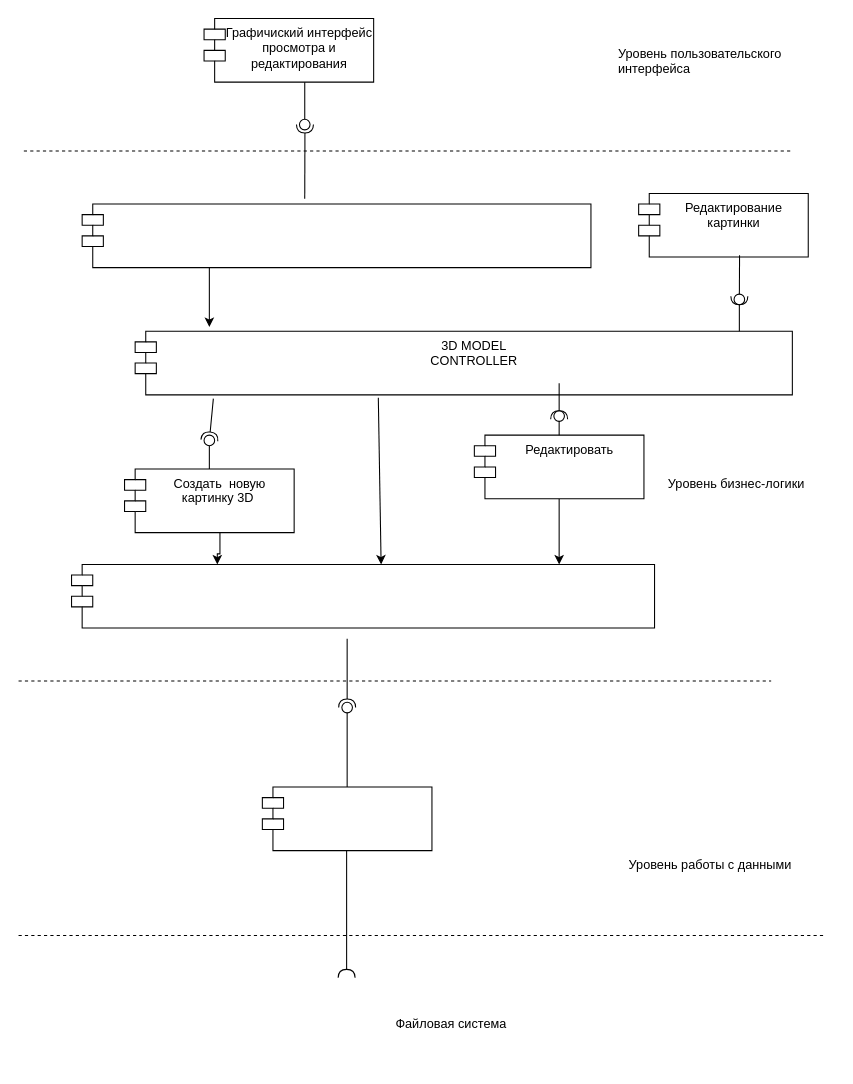
The diagram is 853 pixels wide and 1084 high, and some of its shapes have lost their labels. The shapes that lost their labels are listed below. From the top down, each one's centre as x and y in pixels, then its label:
point (336, 235): APP CONTROLLER
point (362, 595): FILE SYSTEM CONTROLLER
point (346, 818): Файл
